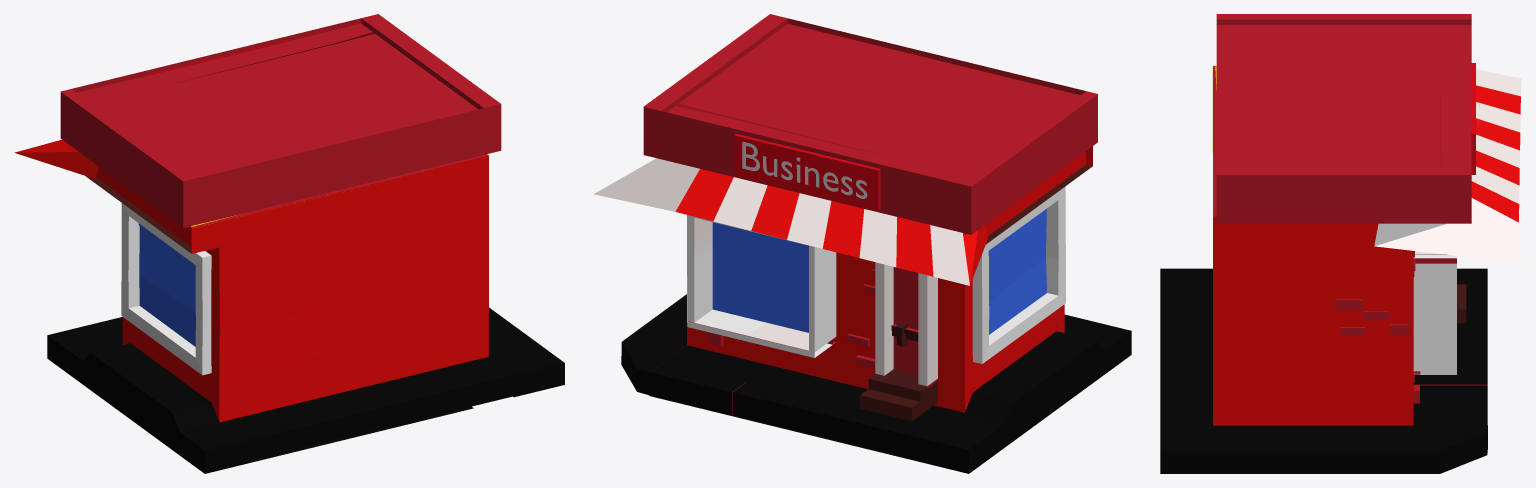
Rendered from house.gltf.
3 views of the same model, side by side, from view 1: azimuth 30°, elevation 25°; view 2: azimuth 150°, elevation 25°; view 3: azimuth 270°, elevation 25° (orthographic). The views are drawn at different scales.
Visible parts, largest first — view 1: Cube.002; view 2: Cube.002, Cube, Text; view 3: Cube.002, Cube.
Part boxes in pixels (x1,y1,x2,y2): Cube.002: (14, 14, 564, 473); Cube.002: (594, 14, 1131, 473); Cube: (734, 133, 880, 211); Text: (742, 141, 867, 198); Cube.002: (1160, 14, 1521, 473); Cube: (1471, 63, 1475, 174).
Size of the model in its own units: 13.63 by 9.38 by 10.9.
